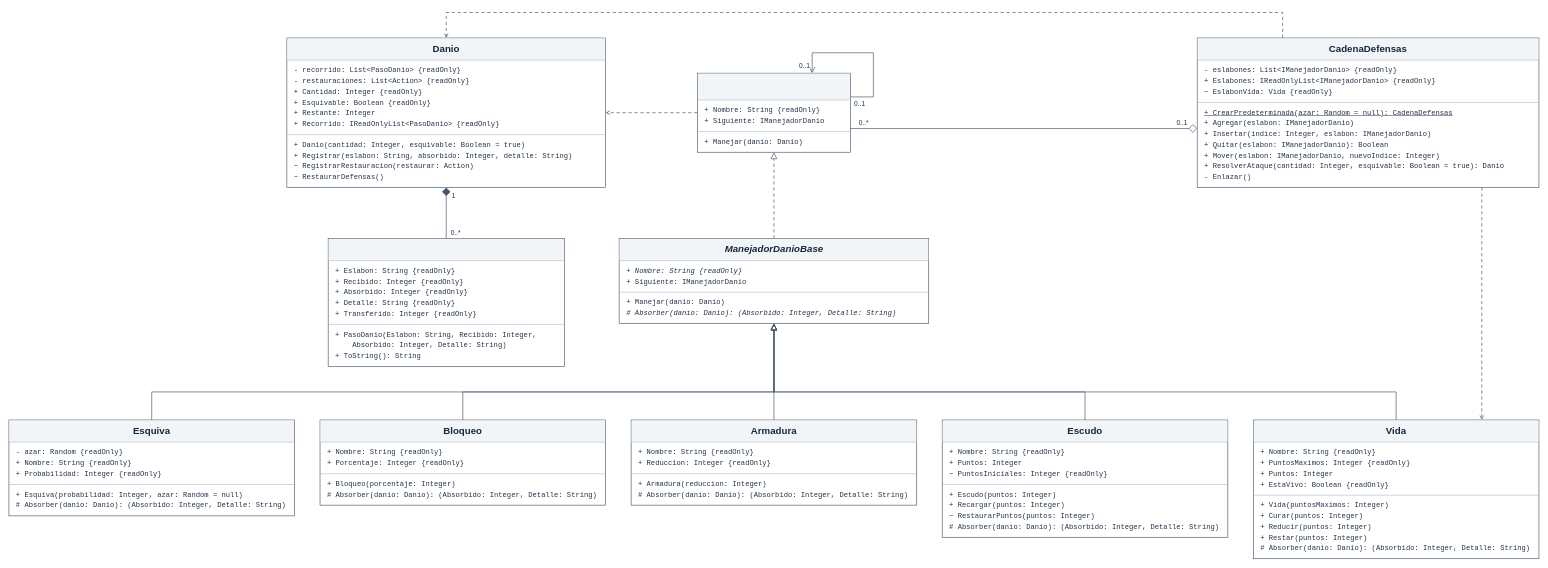
Image size: 1548x568. Some labels were removed from this diagram. The centre of each missing label's shape, as x and y in pixels:
"PasoDanio" goes at point (446, 249).
"«interface» IManejadorDanio" goes at point (774, 86).
